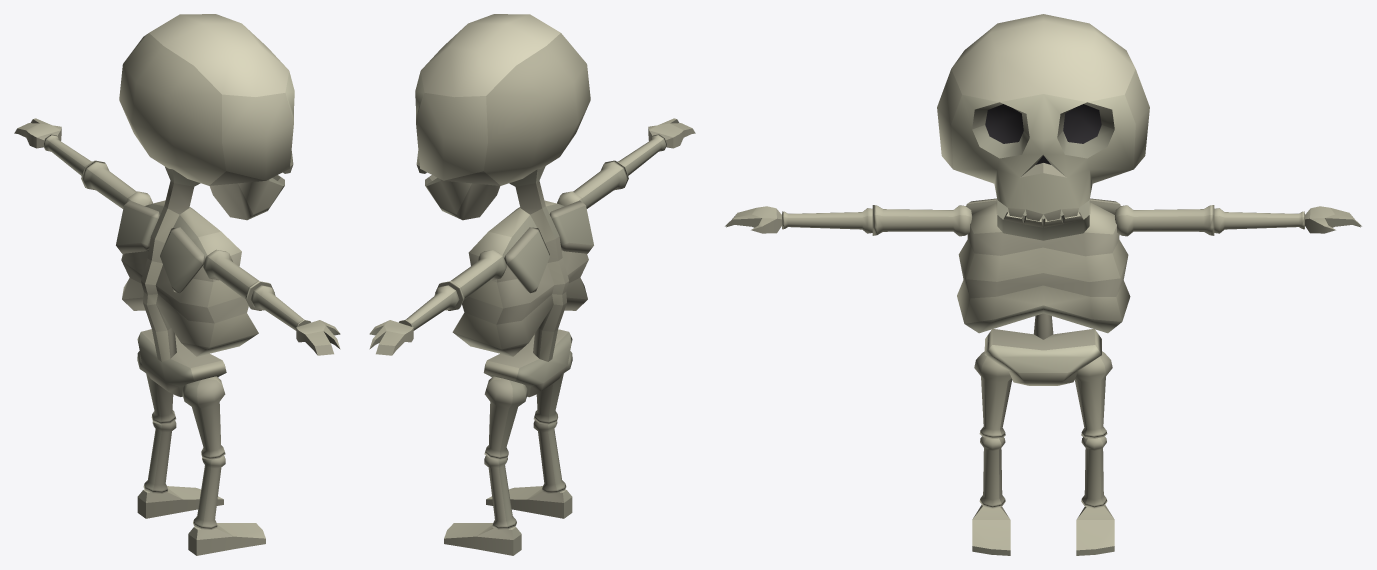
Rendered from Boss_5_sceleton.fbx.
3 renders of one model, left to right at view 1: azimuth 30°, elevation 25°; view 2: azimuth 150°, elevation 25°; view 3: azimuth 270°, elevation 25°, orthographic. The views are drawn at different scales.
Visible parts, largest first — view 1: Boss_6; view 2: Boss_6; view 3: Boss_6.
Boxes of the visible parts, box(x1,y1,x2,y2) form: Boss_6: box(14, 14, 340, 555); Boss_6: box(369, 14, 695, 555); Boss_6: box(725, 14, 1361, 555).
Bounding box in the file's own units: 0.0189 × 0.0603 × 0.0676.
